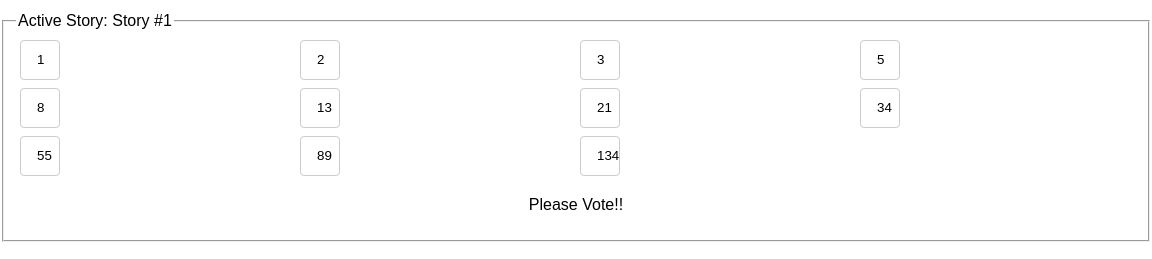
Scenario: ActiveStory.vue › should change text when i vote
Click the button "1" at (40, 60), box [20,40,60,80]
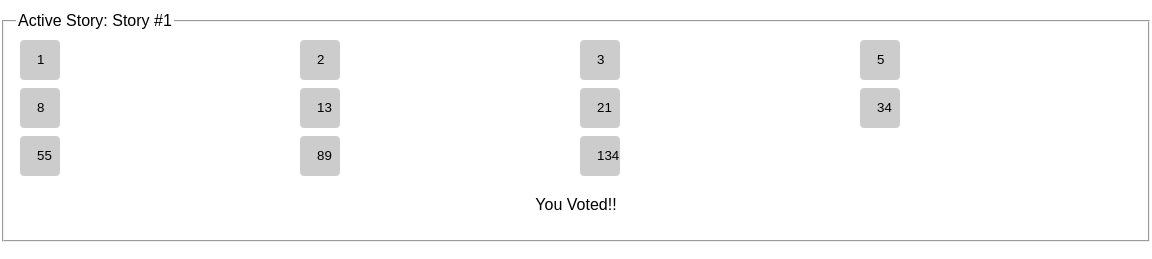
Now the button "1" is disabled, box [20,40,60,80]
Now the text "You Voted!!" is shown, box [535,196,617,213]
